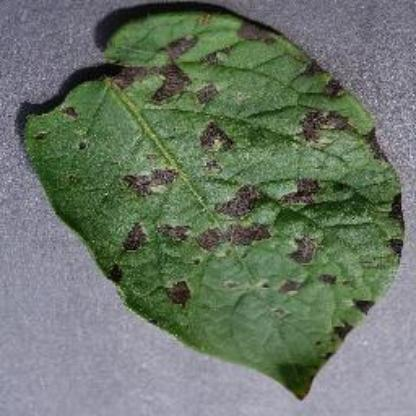Early-Blight: (15, 2, 416, 404)
